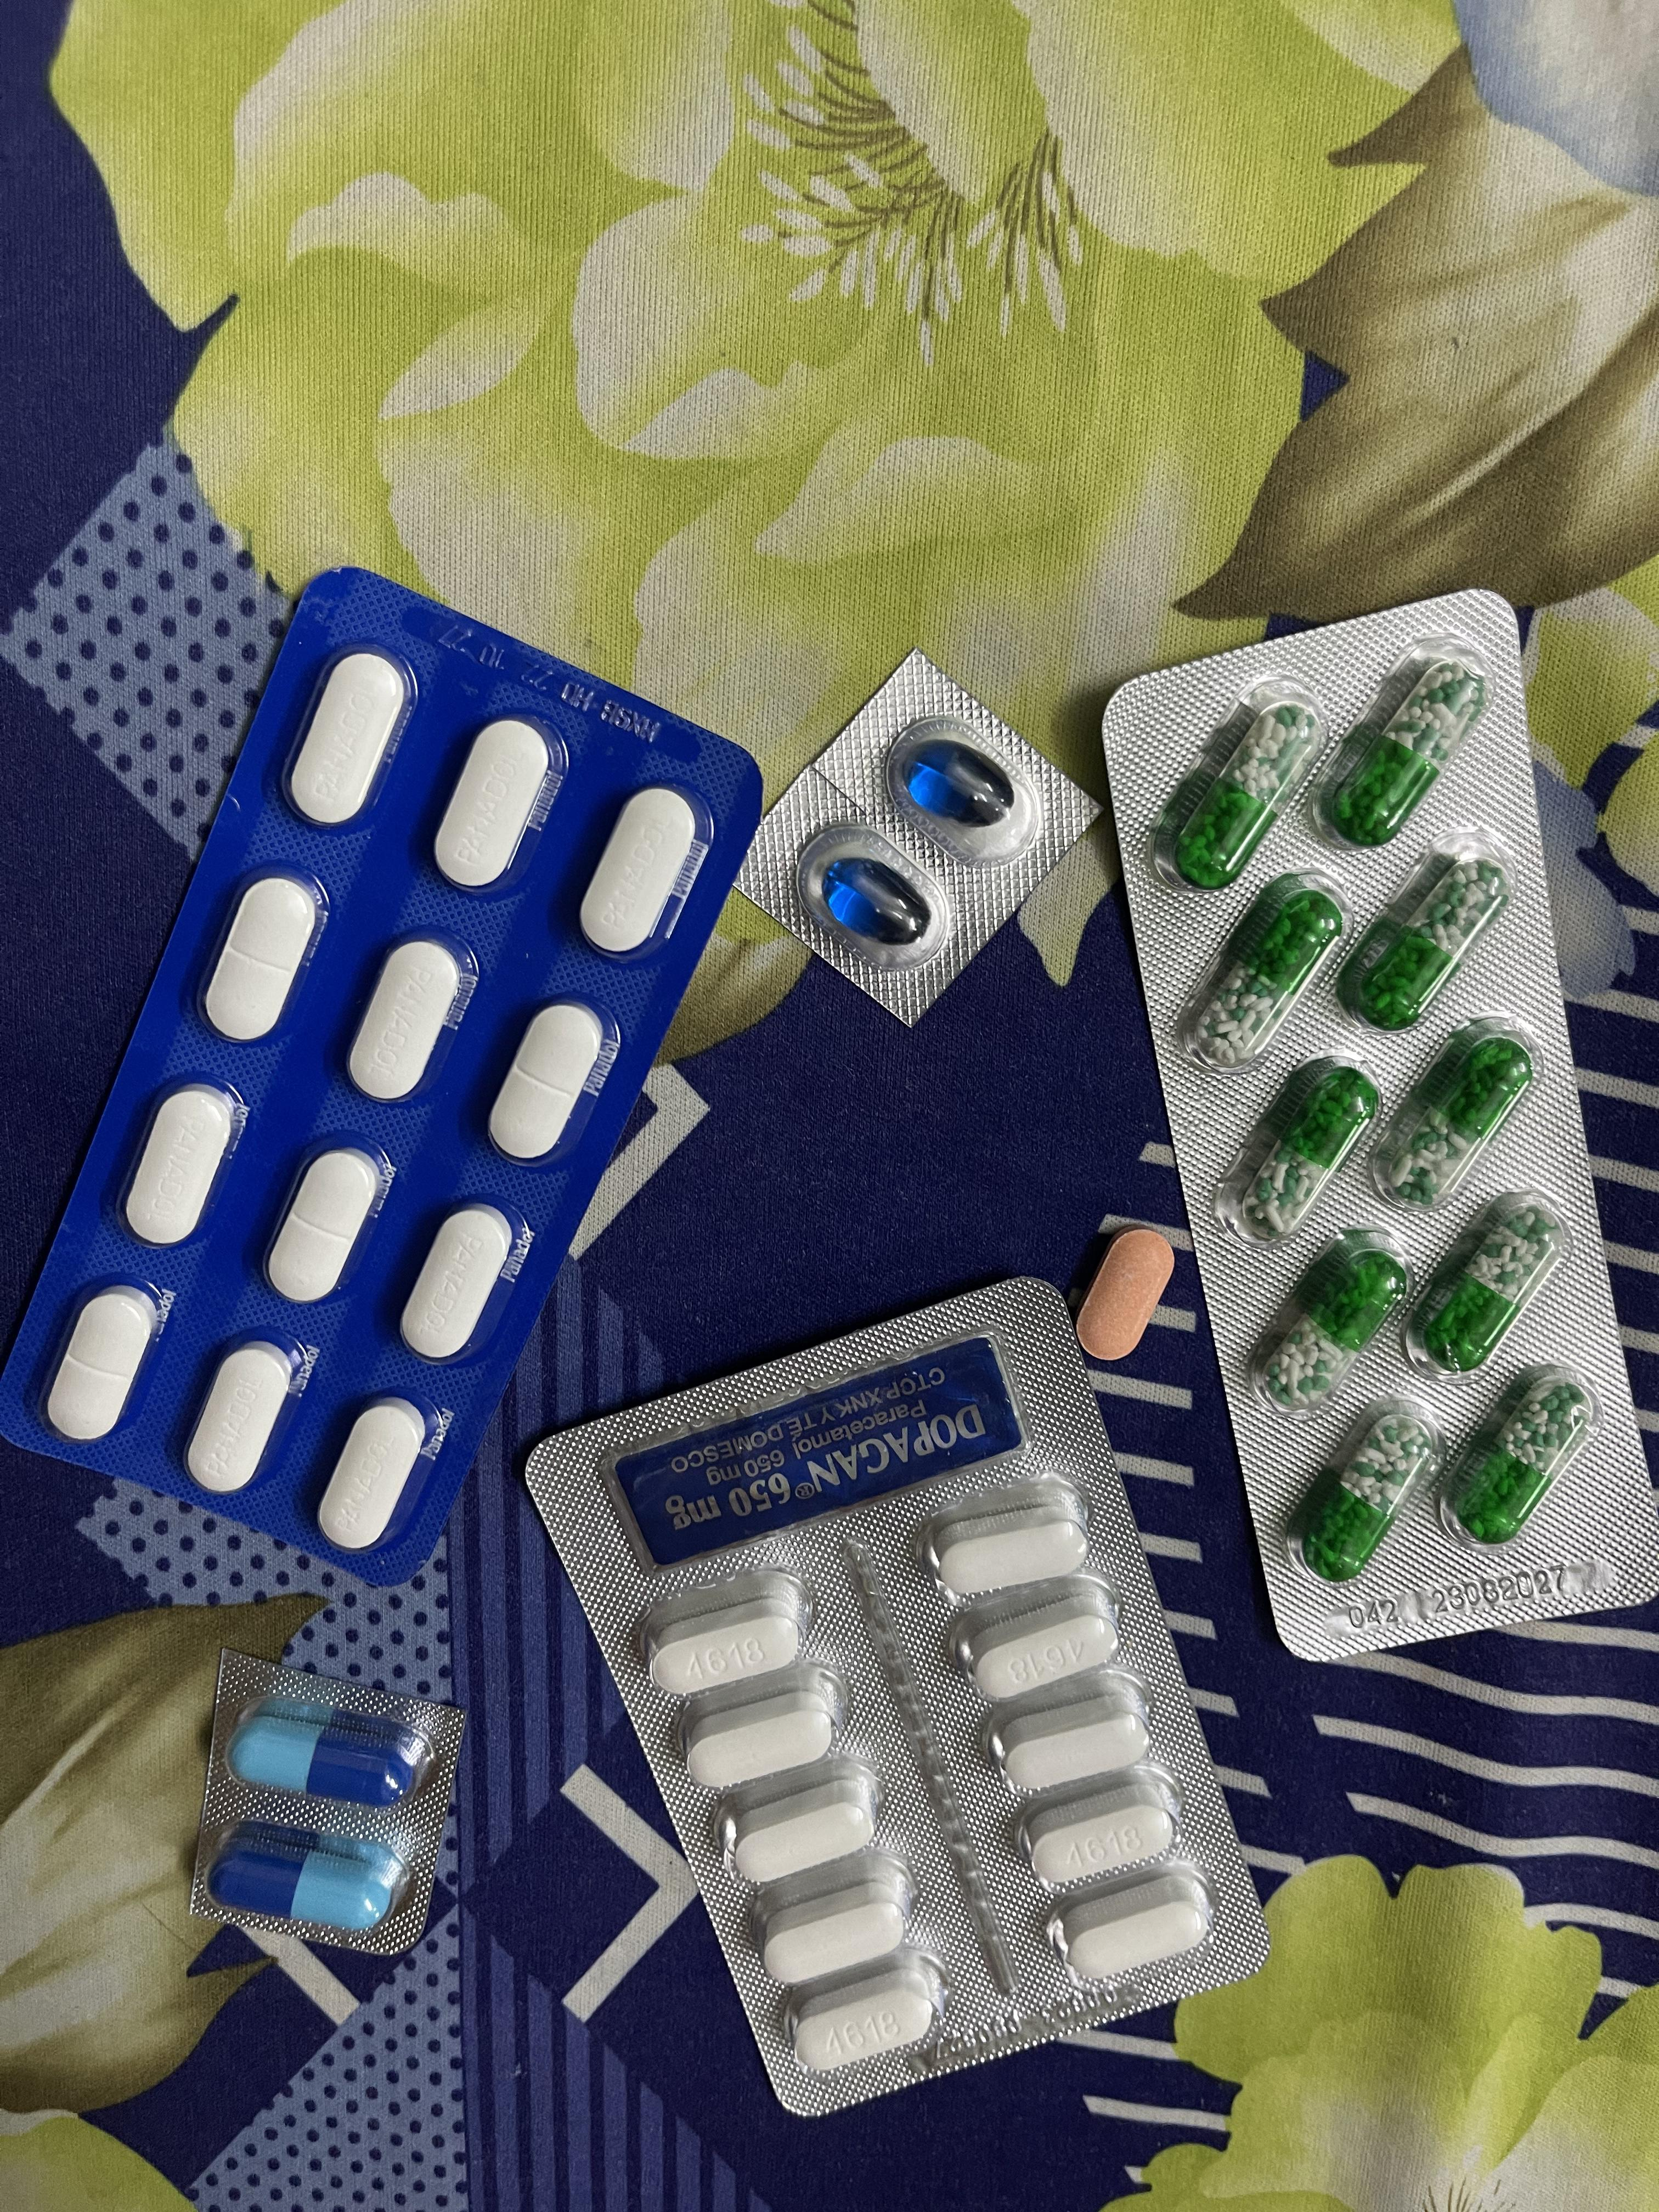Lincomyxin_500mg: (901, 744, 1014, 829), (826, 857, 932, 944)
Loratadine_10mg: (1075, 1231, 1171, 1364)
Paracetamol_350mg: (432, 718, 559, 894), (577, 786, 704, 960), (288, 655, 413, 829), (345, 937, 471, 1106), (488, 1001, 612, 1165), (122, 1080, 240, 1245), (204, 874, 321, 1042), (399, 1205, 519, 1367), (265, 1143, 385, 1305), (185, 1338, 305, 1496), (44, 1285, 160, 1444), (315, 1399, 432, 1552)
Paracetamol_500mg: (673, 1662, 838, 1794), (945, 1576, 1122, 1698), (645, 1564, 812, 1691), (986, 1672, 1155, 1794), (1014, 1766, 1182, 1885), (723, 1759, 882, 1883), (1047, 1860, 1208, 1982), (784, 1958, 941, 2074), (762, 1881, 913, 1986), (929, 1512, 1089, 1599)
Paracetamol_650mg: (1330, 833, 1516, 1047), (1310, 639, 1495, 850), (1403, 1190, 1572, 1379), (1366, 1029, 1537, 1216), (1436, 1359, 1598, 1543), (1284, 1399, 1443, 1581), (1216, 1059, 1373, 1242), (1199, 890, 1344, 1066), (1180, 702, 1317, 883), (1265, 1249, 1405, 1413)
pill: (209, 1824, 418, 1933), (228, 1705, 429, 1806)
